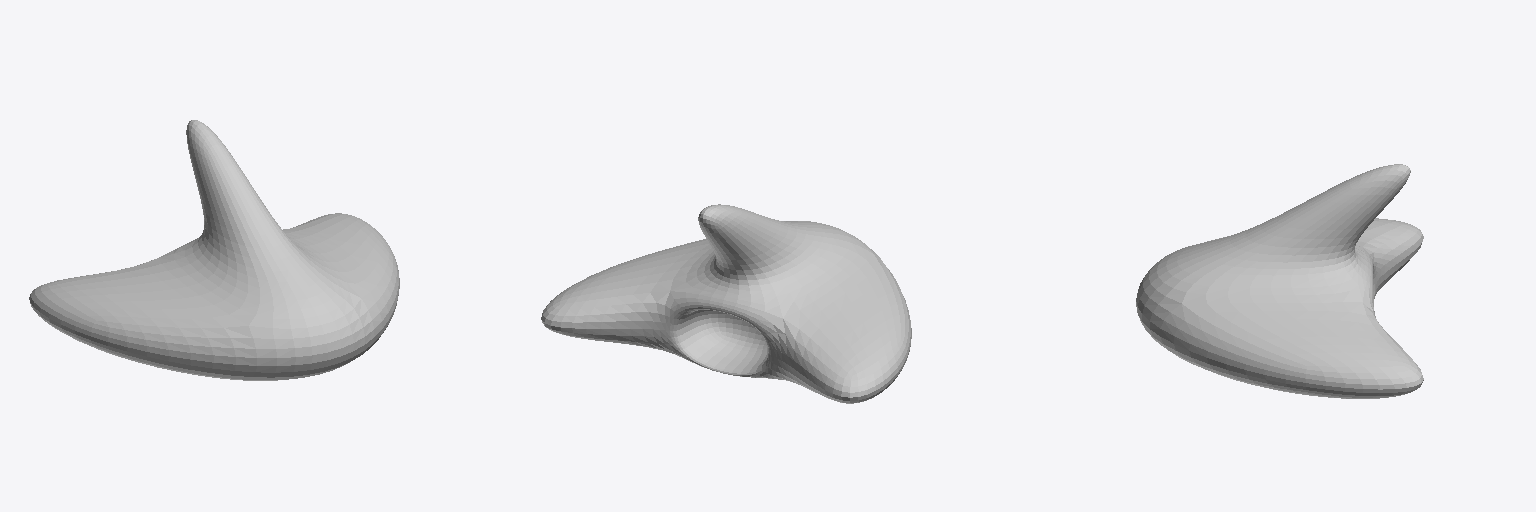
File: glider.obj
3 renders of one model, left to right at view 1: azimuth 30°, elevation 25°; view 2: azimuth 150°, elevation 25°; view 3: azimuth 270°, elevation 25°, orthographic.
Parts seen in each view (by area): view 1: pCube1; view 2: pCube1; view 3: pCube1.
Part boxes in pixels (x1,y1,x2,y2): pCube1: (29, 120, 399, 380); pCube1: (541, 204, 911, 403); pCube1: (1136, 164, 1423, 398).
Size of the model in its own units: 2.79 by 1.46 by 2.09.